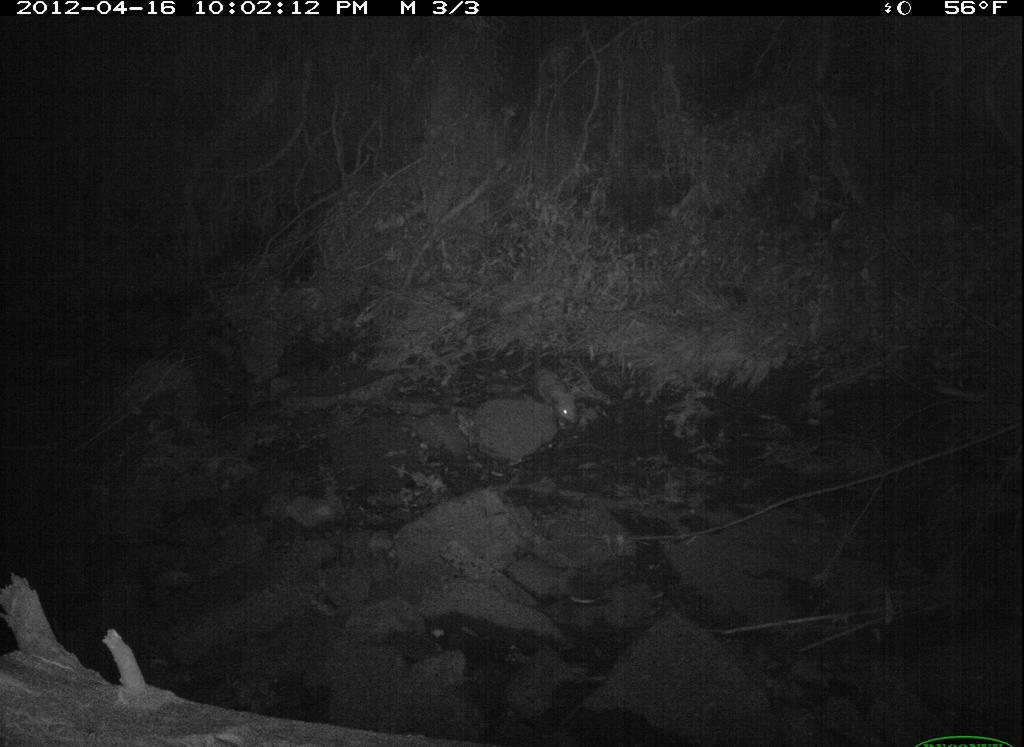opossum: (519, 351, 588, 441)
